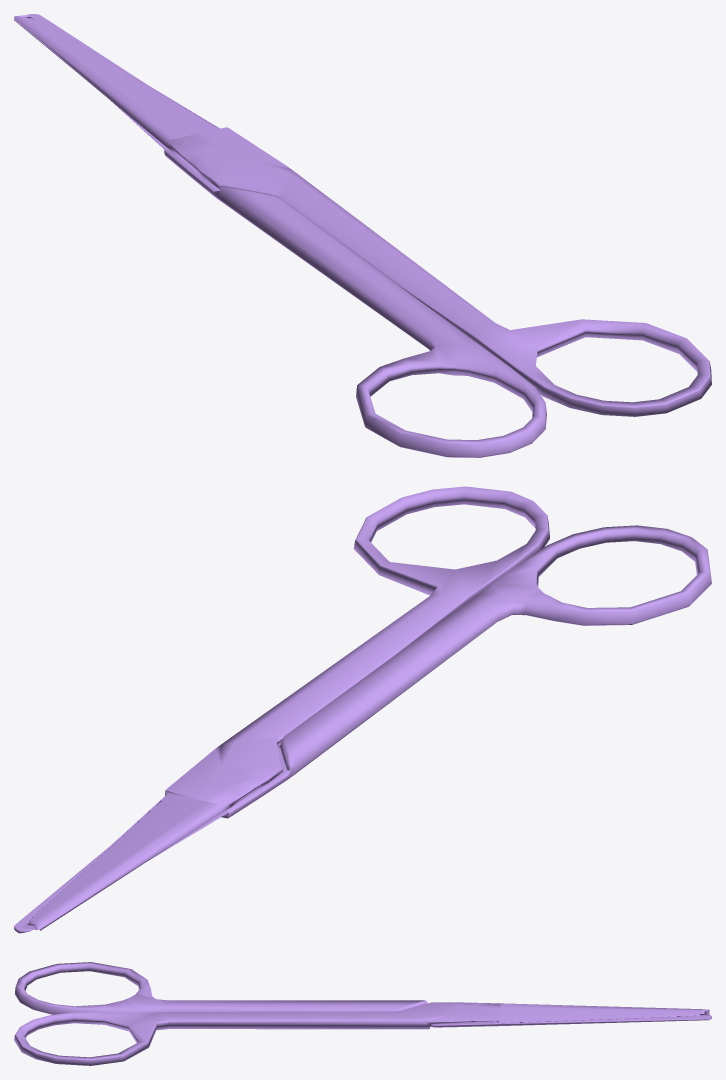
Rendered from Scissors1_Mesh_Collider.fbx.
The picture shows the model from 3 angles, top to bottom: view 1: azimuth 30°, elevation 25°; view 2: azimuth 150°, elevation 25°; view 3: azimuth 270°, elevation 25°; orthographic projection. The views are drawn at different scales.
Parts seen in each view (by area): view 1: extracted_01, Scissors1; view 2: extracted_01, Scissors1; view 3: extracted_01, Scissors1.
Part boxes in pixels (box(x1,y1,x2,y2)): extracted_01: box(14, 14, 711, 416); Scissors1: box(27, 14, 546, 457); extracted_01: box(22, 486, 549, 930); Scissors1: box(14, 525, 711, 933); extracted_01: box(14, 1002, 709, 1065); Scissors1: box(15, 962, 711, 1027).
Size of the model in its own units: 5.14 by 0.2304 by 15.54.
